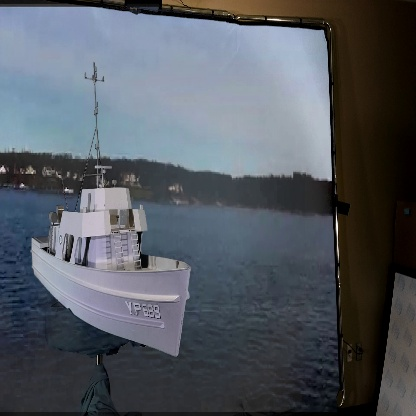YP689: (29, 59, 193, 357)
